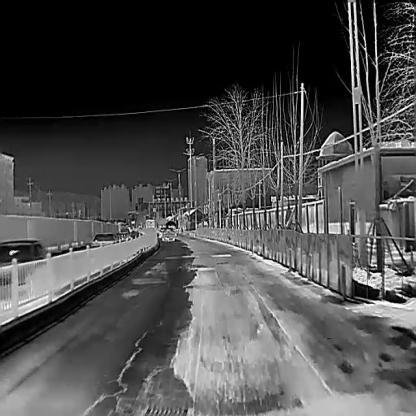car: (0, 238, 51, 295), (91, 232, 116, 247), (162, 229, 174, 241)
